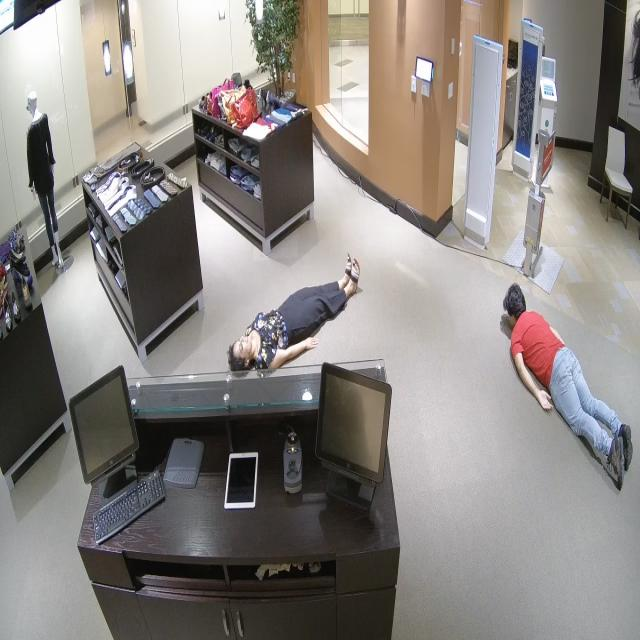fall: (491, 270, 638, 516), (222, 235, 364, 376)
